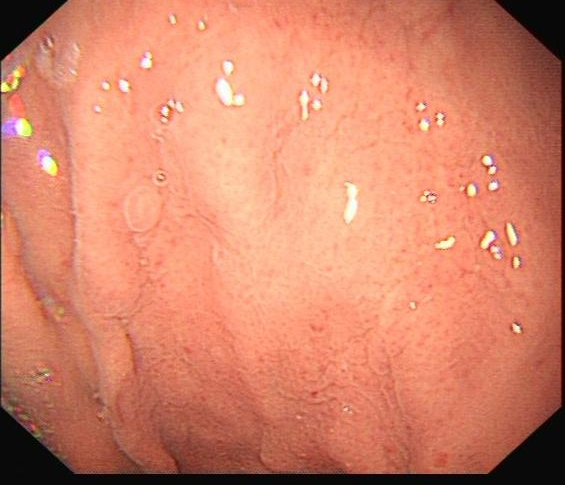Polyp: (114, 175, 179, 240)
